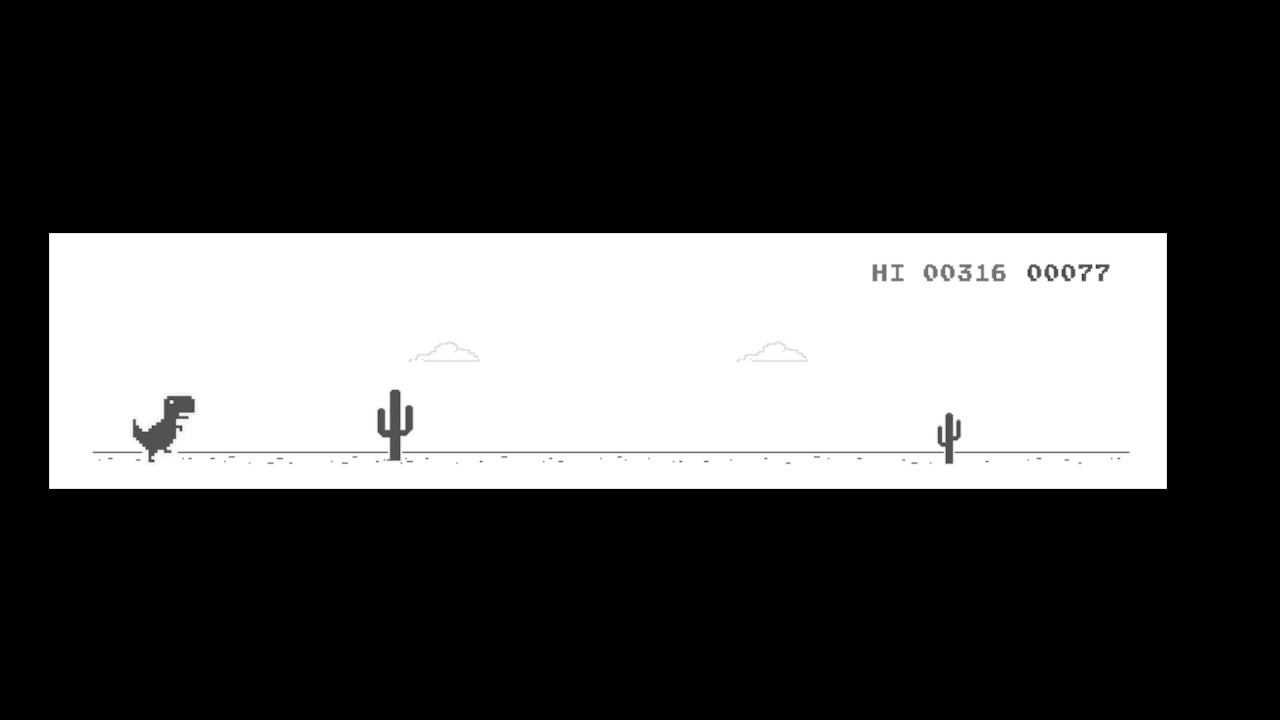bigone: (372, 387, 419, 463)
dino: (126, 389, 196, 462)
small1: (931, 412, 963, 466)
